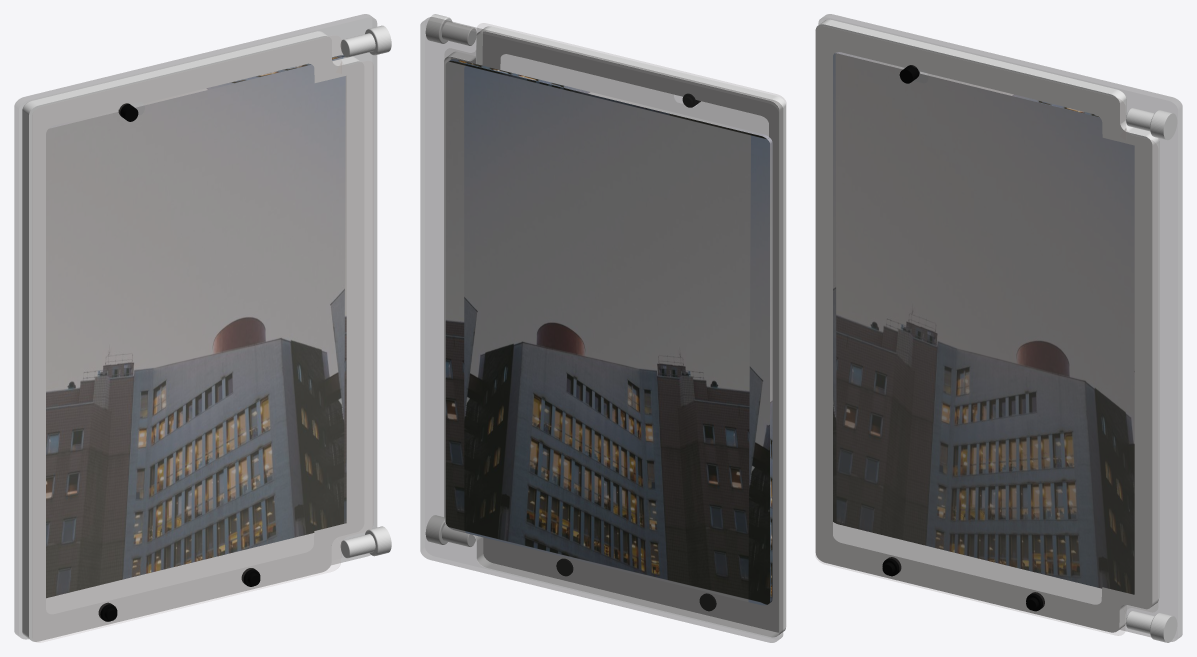
Rendered from a4vertr8.glb.
3 renders of one model, left to right at view 1: azimuth 30°, elevation 25°; view 2: azimuth 150°, elevation 25°; view 3: azimuth 330°, elevation 25°, orthographic.
Parts seen in each view (by area): view 1: a4vertone; view 2: a4vertone; view 3: a4vertone.
Part boxes in pixels (box(x1,y1,x2,y2)): a4vertone: box(14, 14, 391, 642); a4vertone: box(420, 14, 786, 642); a4vertone: box(815, 14, 1182, 642).
Size of the model in its own units: 0.1952 by 0.2806 by 0.0181.
6 materials, 1 textured.
